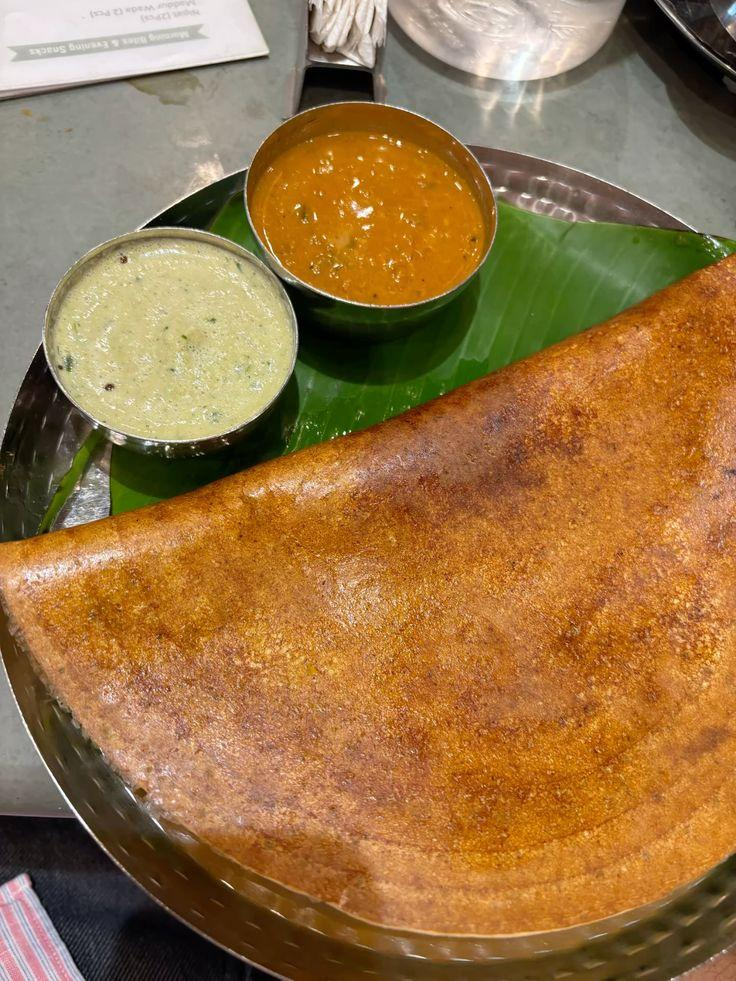dosa: (31, 432, 736, 919)
